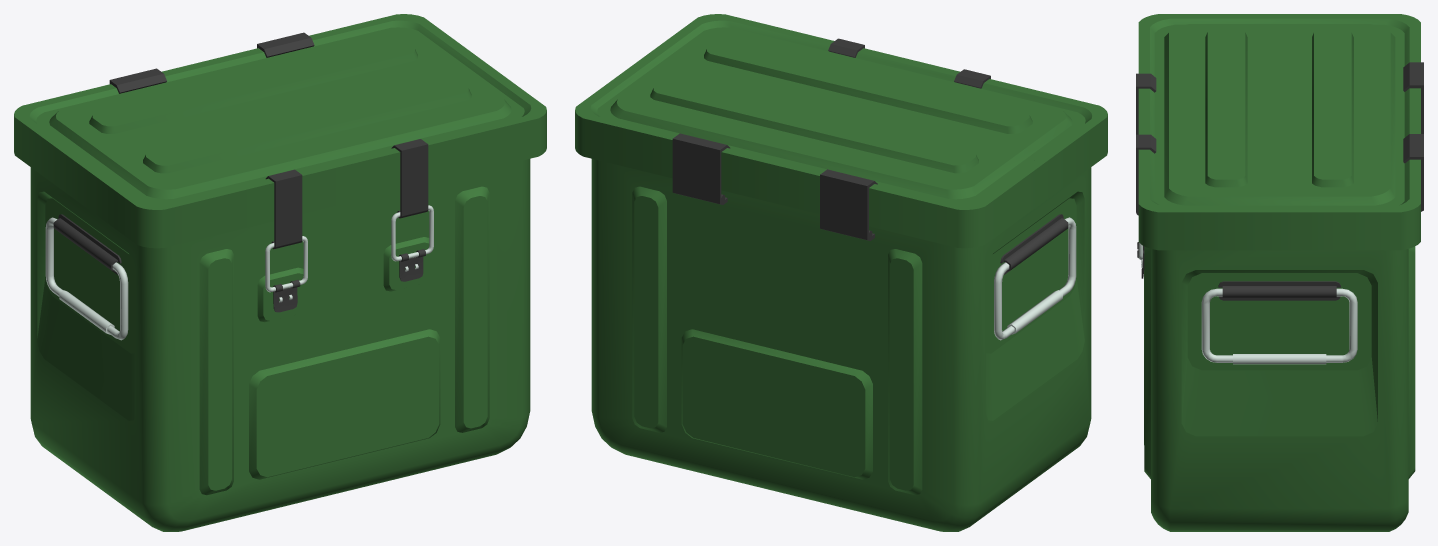
The model's file is Ammo.fbx.
3 views of the same model, side by side, from view 1: azimuth 30°, elevation 25°; view 2: azimuth 150°, elevation 25°; view 3: azimuth 270°, elevation 25° (orthographic).
Visible parts, largest first — view 1: caja_municion_03_LP, caja_municion_02_LP, caja_municion_00_LP; view 2: caja_municion_03_LP, caja_municion_02_LP, caja_municion_00_LP; view 3: caja_municion_03_LP, caja_municion_02_LP, caja_municion_01_LP.
Boxes of the visible parts, bbox=[...] form: caja_municion_03_LP: bbox=[30, 159, 530, 531]; caja_municion_02_LP: bbox=[14, 14, 546, 312]; caja_municion_00_LP: bbox=[45, 217, 128, 340]; caja_municion_03_LP: bbox=[591, 159, 1091, 531]; caja_municion_02_LP: bbox=[575, 14, 1107, 248]; caja_municion_00_LP: bbox=[994, 217, 1076, 340]; caja_municion_03_LP: bbox=[1141, 246, 1415, 531]; caja_municion_02_LP: bbox=[1136, 14, 1423, 278]; caja_municion_01_LP: bbox=[1201, 288, 1357, 364].
Bounding box in the file's own units: 15.39 × 12.59 × 9.43.
